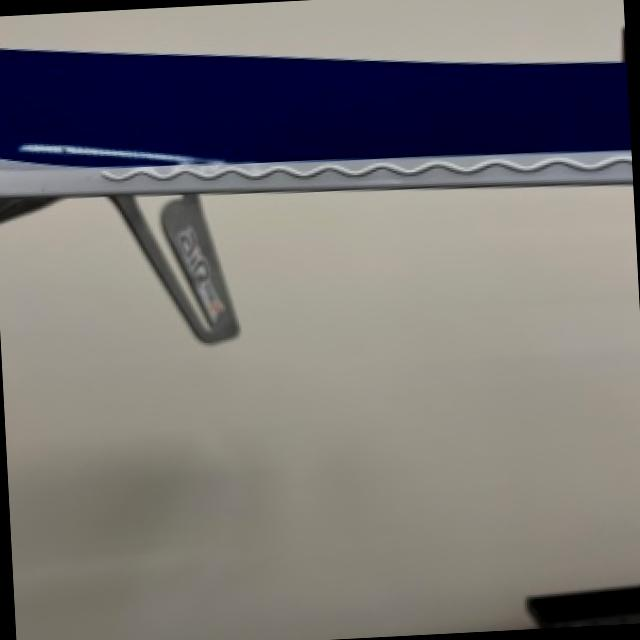healthy: (0, 186, 640, 640), (0, 0, 623, 59)
